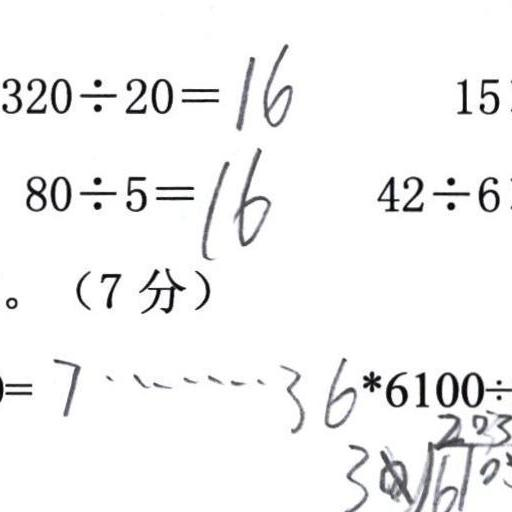ans: (50, 353, 357, 434), (194, 144, 273, 257), (229, 41, 294, 131)
